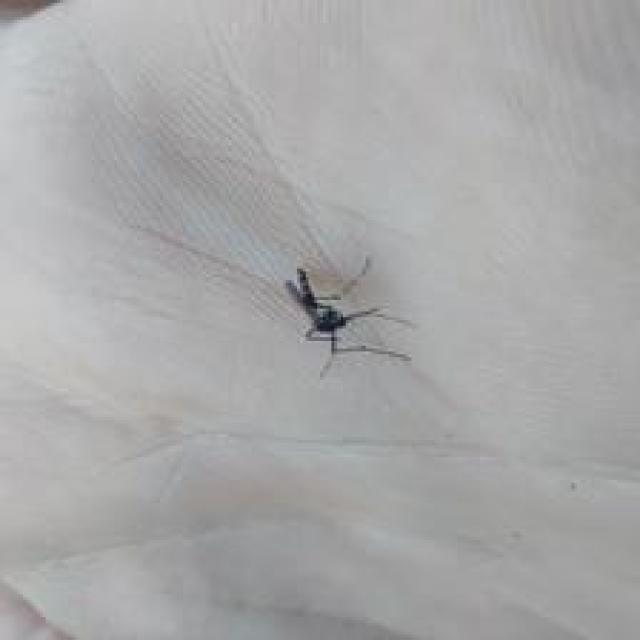Aedes albopictus: (283, 255, 414, 378)
